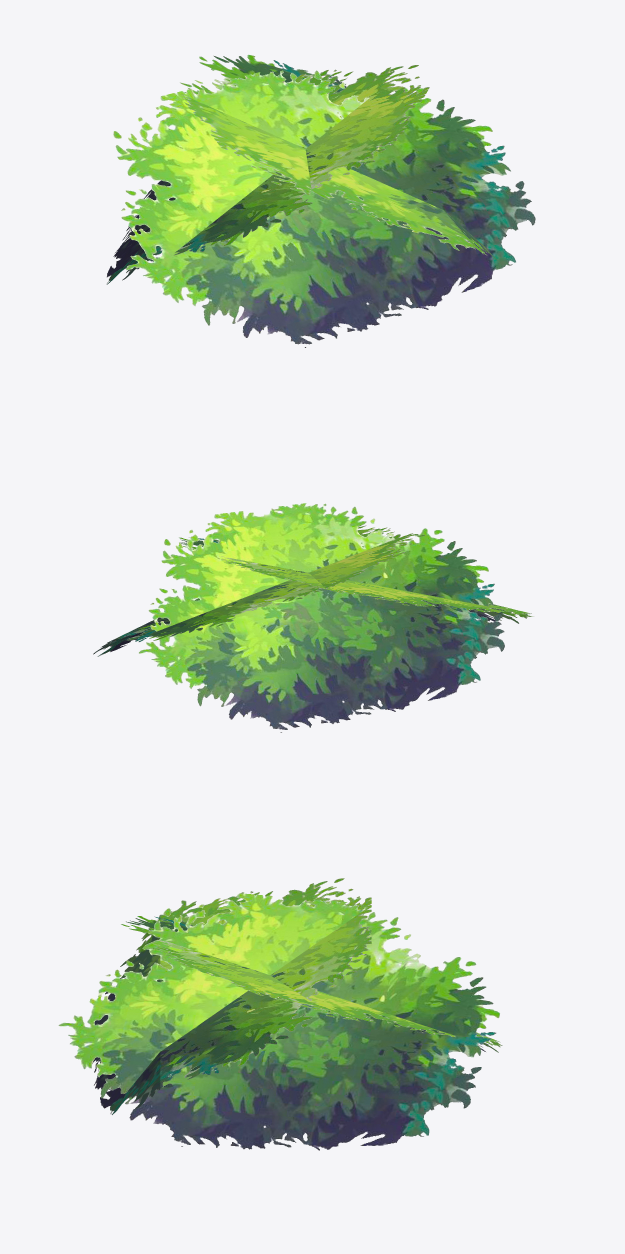
Rendered from bush2.fbx.
3 renders of one model, top to bottom at view 1: azimuth 30°, elevation 25°; view 2: azimuth 150°, elevation 25°; view 3: azimuth 270°, elevation 25°, orthographic. The views are drawn at different scales.
Parts seen in each view (by area): view 1: Bush01; view 2: Bush01; view 3: Bush01.
Boxes of the visible parts, x1,y1,x2,y2 form: Bush01: (106,54,535,347); Bush01: (93,503,533,732); Bush01: (58,878,502,1150).
Bounding box in the file's own units: 257 × 87.26 × 258.
1 material, 1 textured.
